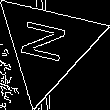N_E: (19, 20, 76, 70)
